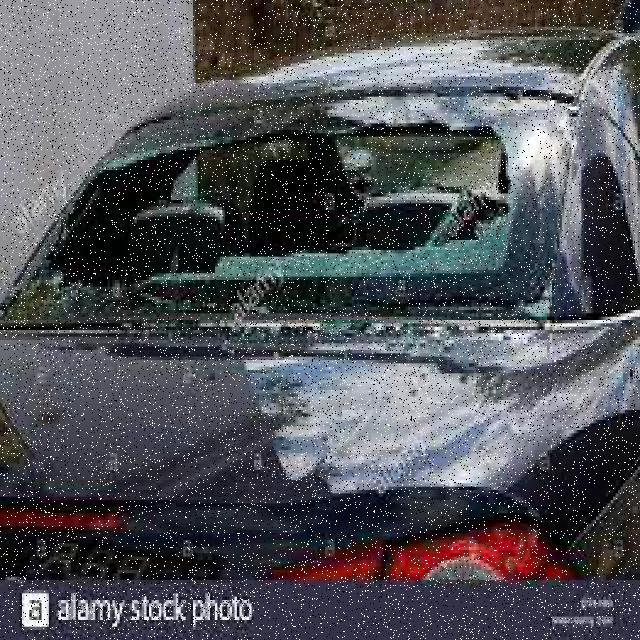Rear-windscreen-Damage: (0, 83, 579, 397)
